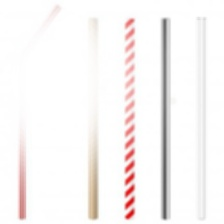drinking_straw: (10, 1, 66, 222), (119, 12, 140, 222), (156, 13, 176, 221), (83, 12, 102, 222), (190, 12, 209, 222)
